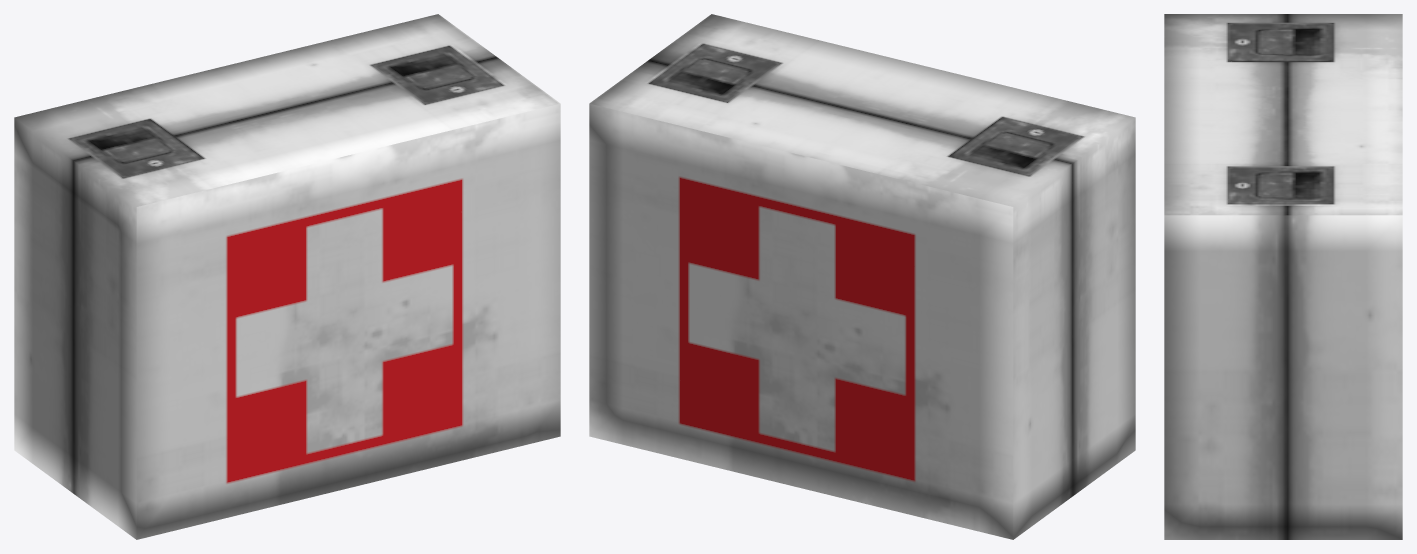
The model's file is GAM0110024.fbx.
3 renders of one model, left to right at view 1: azimuth 30°, elevation 25°; view 2: azimuth 150°, elevation 25°; view 3: azimuth 270°, elevation 25°, orthographic. The views are drawn at different scales.
Parts seen in each view (by area): view 1: smGAM0110024; view 2: smGAM0110024; view 3: smGAM0110024.
Boxes of the visible parts, <box> form: smGAM0110024: <box>14,14,560,539</box>; smGAM0110024: <box>589,14,1135,539</box>; smGAM0110024: <box>1164,14,1402,539</box>.
Bounding box in the file's own units: 52.29 × 39.21 × 26.14.
Materials: 1 (1 with a texture image).
